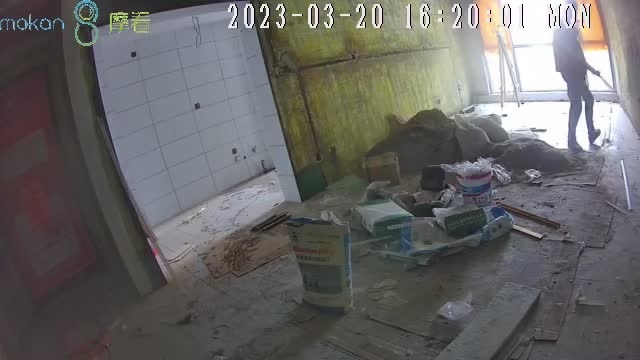people: (553, 1, 602, 153)
window: (472, 1, 616, 93)
